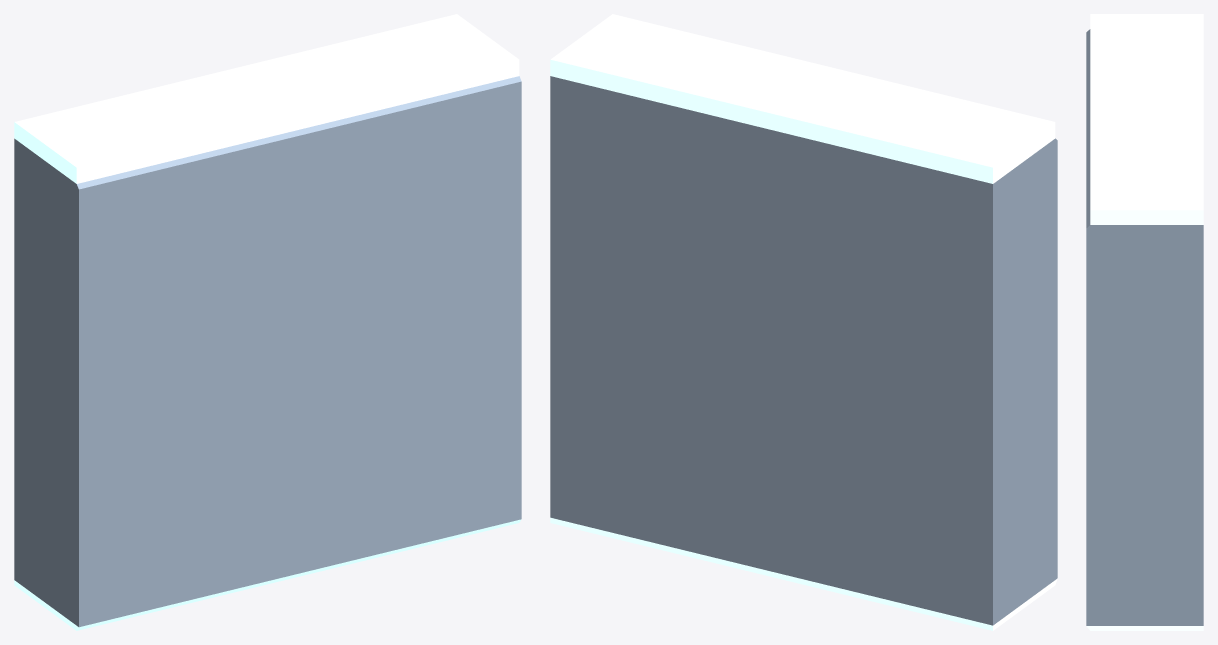
Rendered from floor1-4_low.fbx.
3 views of the same model, side by side, from view 1: azimuth 30°, elevation 25°; view 2: azimuth 150°, elevation 25°; view 3: azimuth 270°, elevation 25° (orthographic). The views are drawn at different scales.
Visible parts, largest first — view 1: floor1-4_low; view 2: floor1-4_low; view 3: floor1-4_low.
Part boxes in pixels (x1,y1,x2,y2): floor1-4_low: (14,14,521,630); floor1-4_low: (550,14,1057,630); floor1-4_low: (1086,14,1203,630).
Bounding box in the file's own units: 150 × 150 × 37.91.
